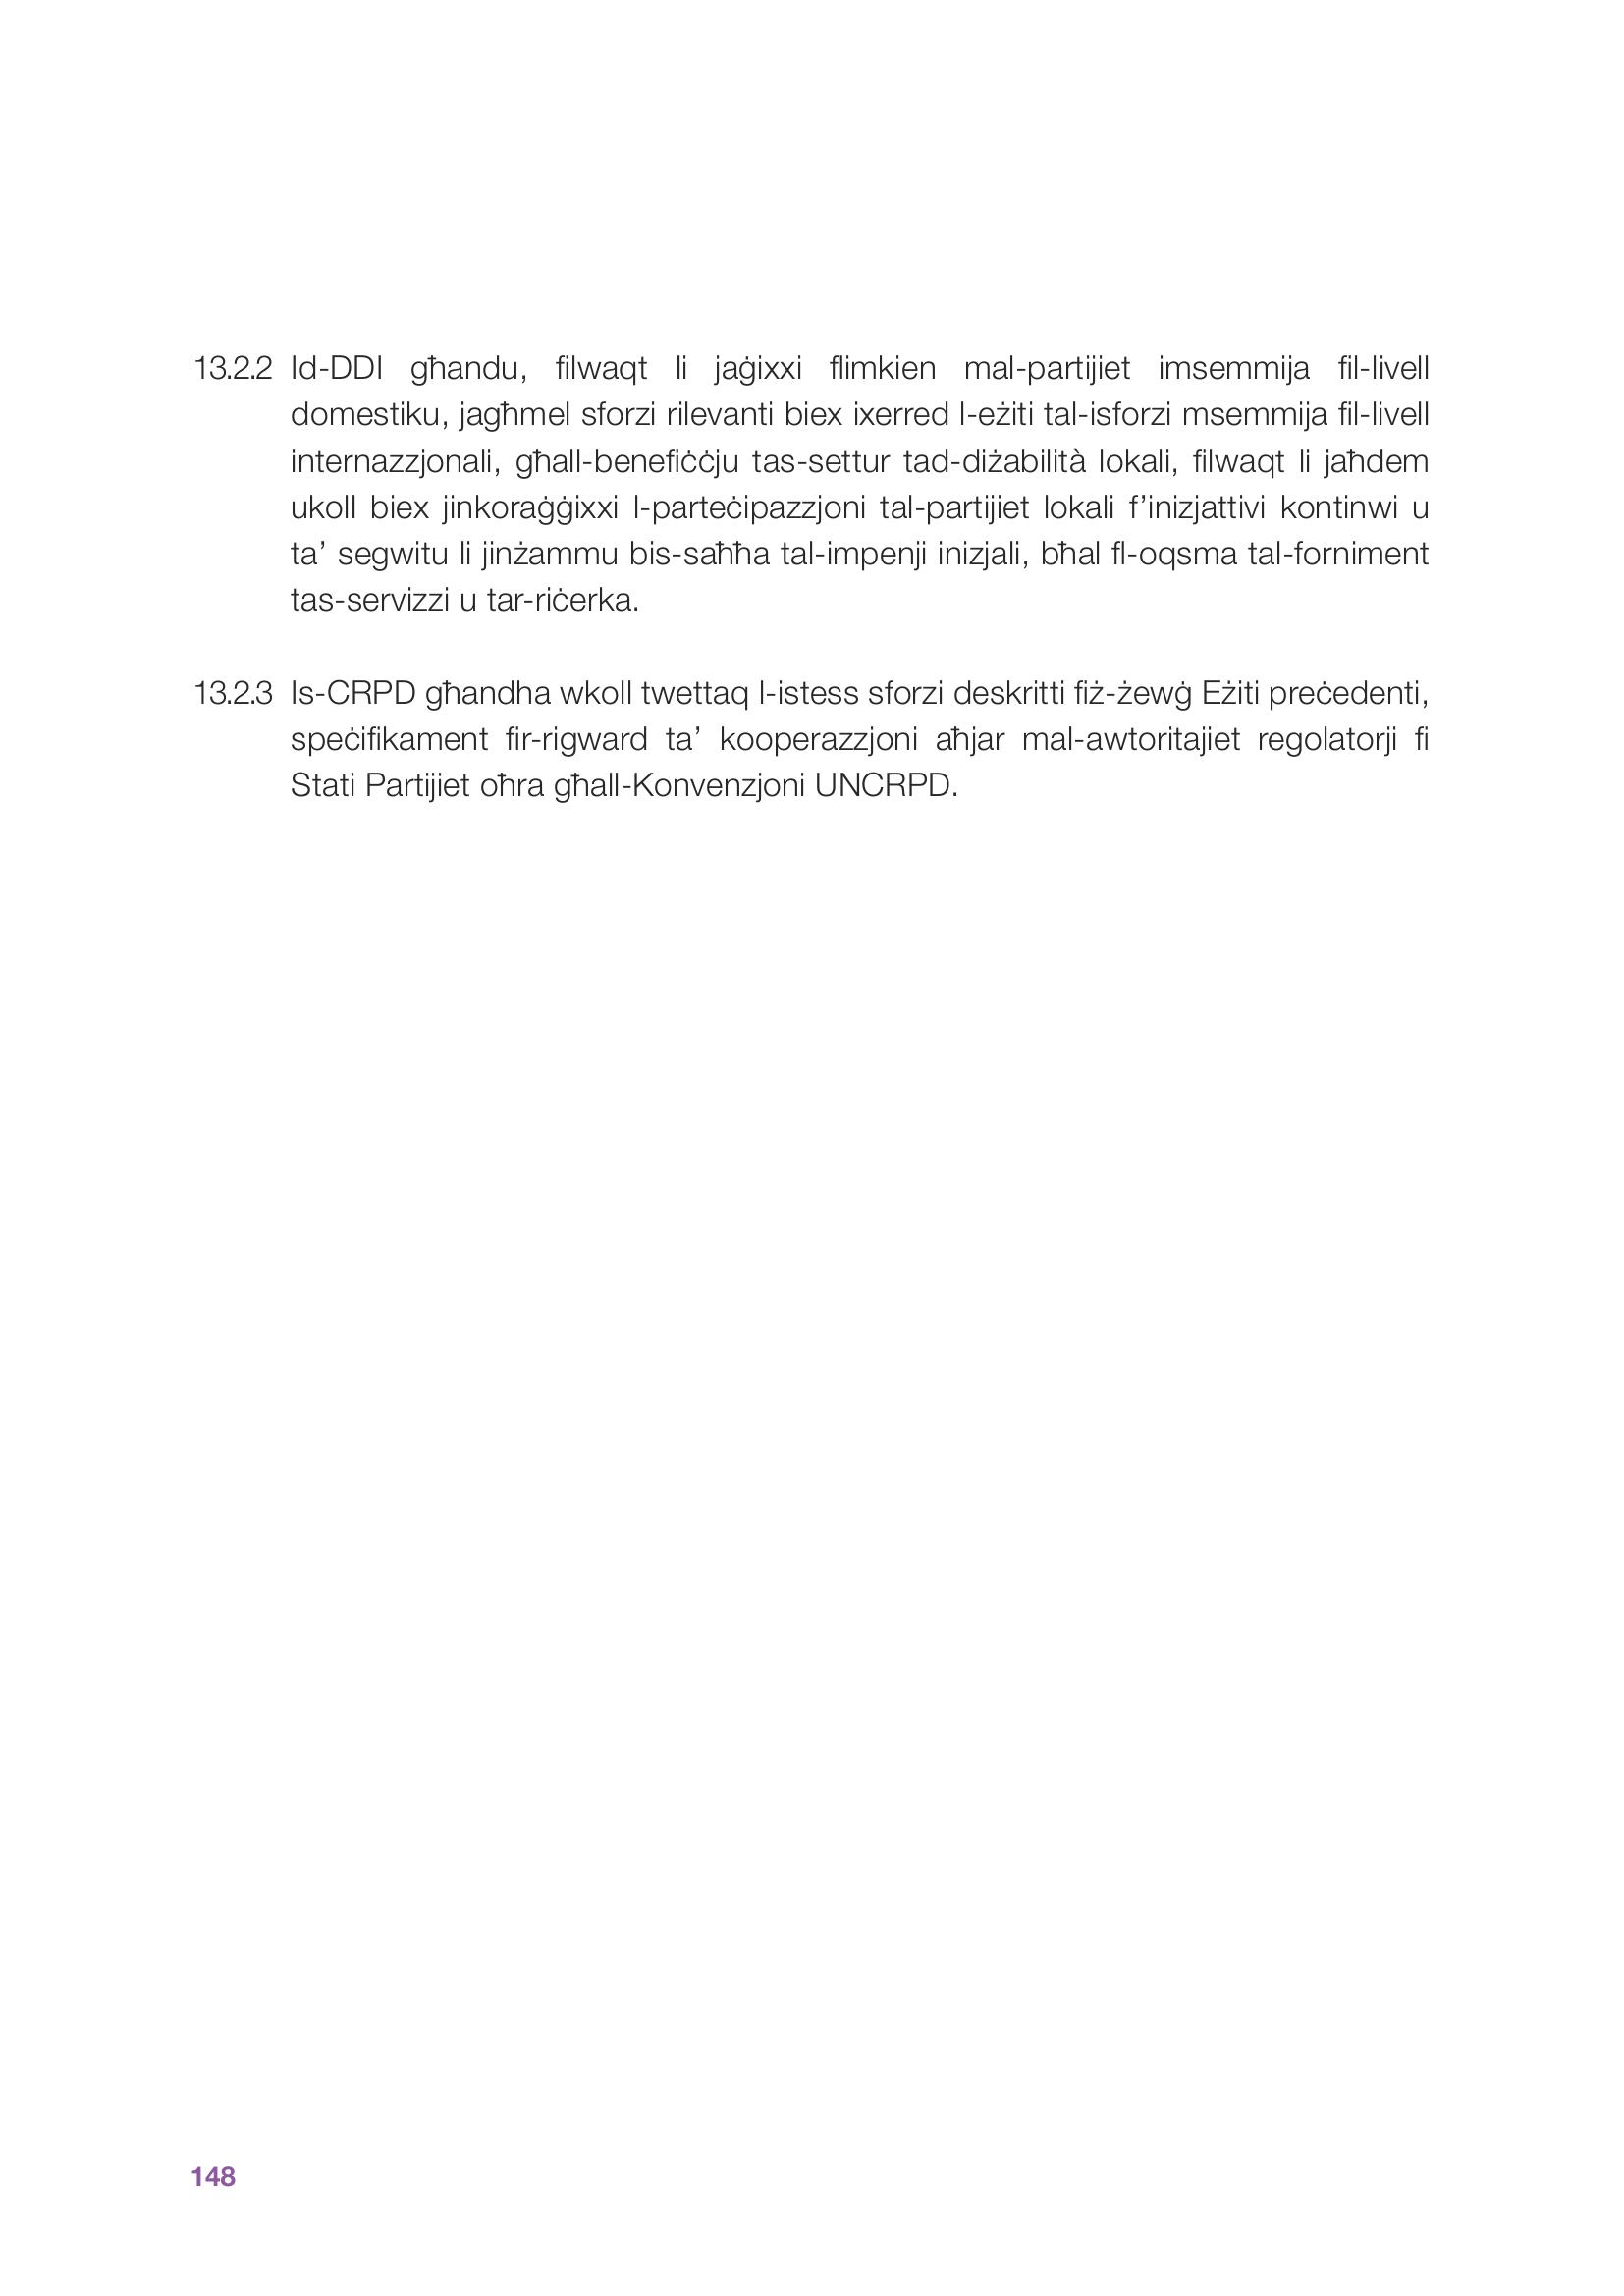text: (169, 321, 1464, 826)
